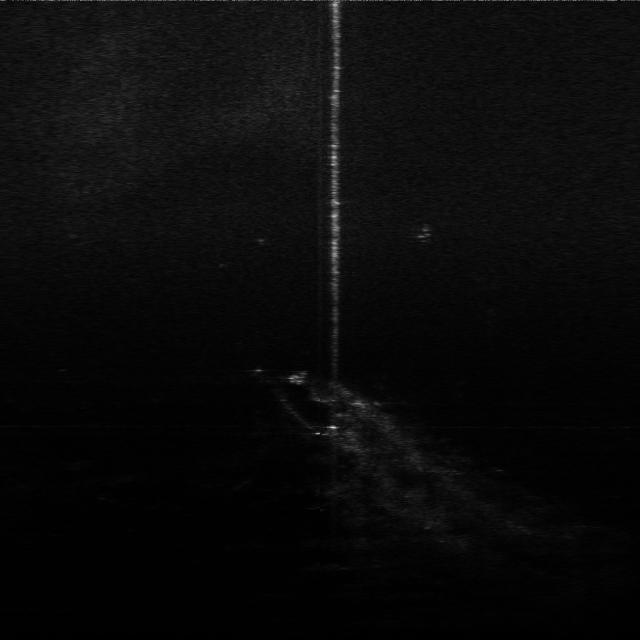rov: (283, 368, 307, 387)
